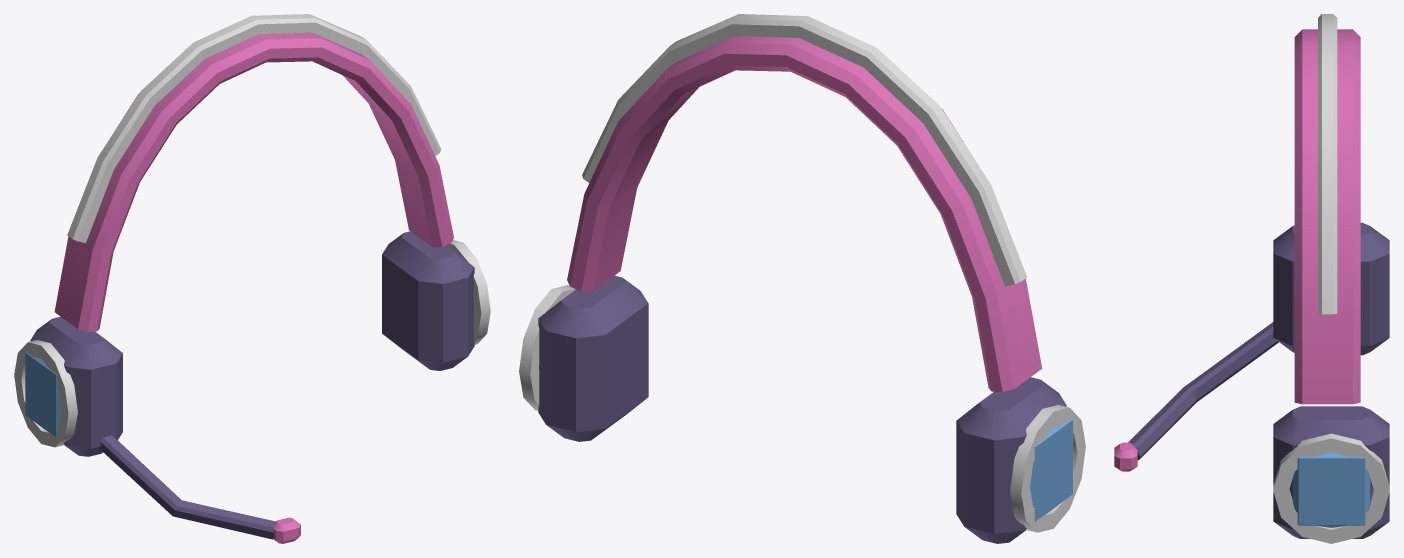
Rendered from gear_oreilles_chat.glb.
The picture shows the model from 3 angles, left to right: view 1: azimuth 30°, elevation 25°; view 2: azimuth 150°, elevation 25°; view 3: azimuth 270°, elevation 25°; orthographic projection. The views are drawn at different scales.
Visible parts, largest first — view 1: head__oreilles_chat, head__oreilles_chat_glow; view 2: head__oreilles_chat, head__oreilles_chat_glow; view 3: head__oreilles_chat, head__oreilles_chat_glow.
Boxes of the visible parts, box(x1,y1,x2,y2) form: head__oreilles_chat: box(25, 32, 474, 543); head__oreilles_chat_glow: box(14, 14, 490, 447); head__oreilles_chat: box(538, 36, 1072, 543); head__oreilles_chat_glow: box(519, 14, 1085, 532); head__oreilles_chat: box(1114, 29, 1389, 538); head__oreilles_chat_glow: box(1273, 14, 1389, 543).
Bounding box in the file's own units: 0.27 × 0.267 × 0.142.
